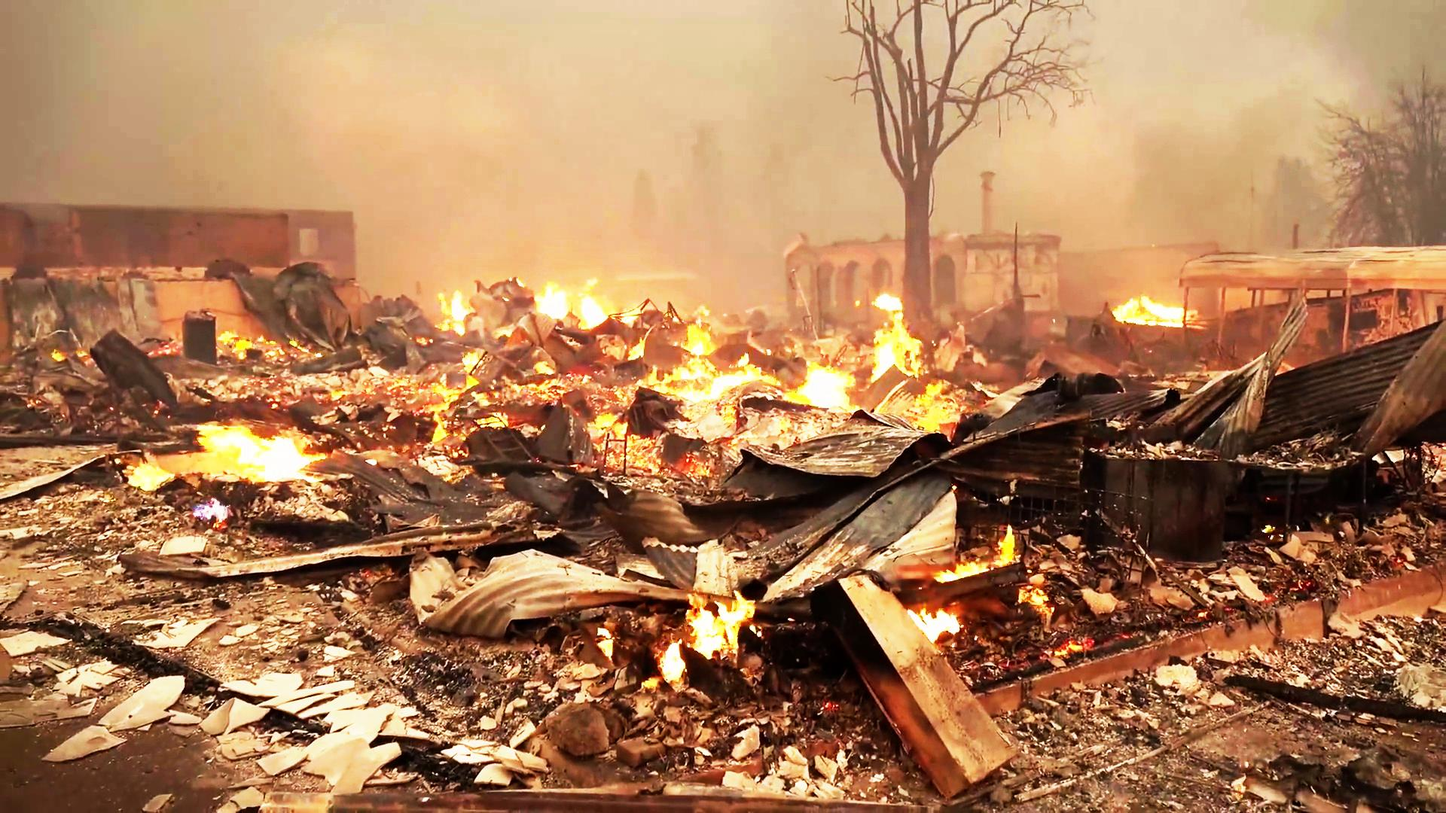fire: (778, 311, 939, 419), (170, 413, 328, 479), (1126, 294, 1201, 350)
smoke: (0, 0, 546, 175), (552, 0, 866, 213), (1104, 37, 1251, 206)
